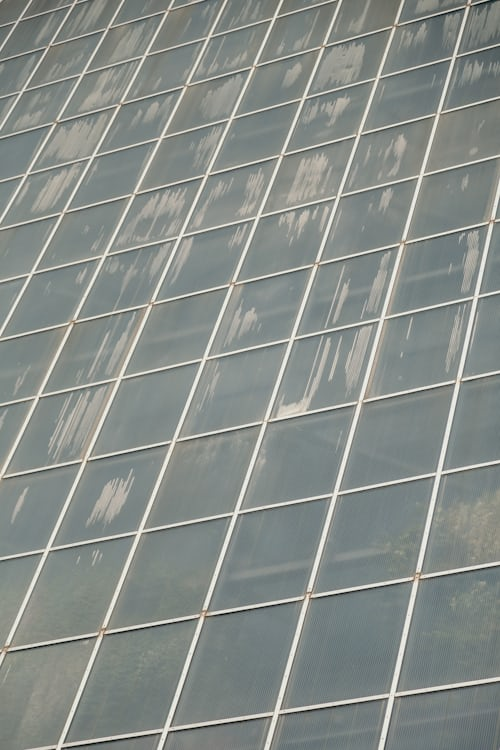glass panel: (286, 585, 409, 705), (69, 622, 193, 740), (175, 604, 297, 723), (315, 480, 431, 590), (210, 501, 326, 610), (111, 519, 226, 626), (13, 539, 130, 644), (400, 568, 499, 688), (343, 388, 450, 487), (148, 428, 256, 526), (244, 409, 351, 506), (56, 448, 164, 543), (0, 640, 91, 749), (182, 345, 284, 436), (273, 326, 374, 417), (368, 305, 469, 395), (94, 366, 195, 452), (9, 386, 108, 470), (390, 228, 484, 312), (127, 291, 224, 372), (425, 465, 499, 570), (300, 251, 394, 333), (212, 271, 307, 352), (386, 684, 499, 749), (45, 312, 139, 390), (409, 160, 499, 237), (325, 181, 414, 258), (158, 223, 248, 298), (446, 342, 500, 467), (239, 203, 330, 277), (0, 467, 75, 555), (82, 242, 171, 315), (6, 262, 94, 334), (346, 118, 432, 189), (266, 139, 352, 210), (189, 161, 274, 230), (115, 180, 198, 248), (40, 200, 124, 267), (271, 702, 384, 749), (366, 63, 447, 128), (289, 84, 369, 148), (141, 125, 222, 188), (215, 105, 295, 168), (427, 100, 499, 169), (72, 145, 151, 206), (5, 162, 83, 223), (384, 11, 461, 72), (239, 52, 316, 112), (311, 32, 387, 92), (169, 73, 246, 131), (0, 329, 61, 401), (36, 110, 110, 168), (102, 93, 177, 149), (262, 3, 334, 60), (194, 23, 266, 79), (127, 43, 200, 98), (65, 62, 137, 115), (30, 33, 100, 84), (91, 16, 160, 67), (0, 556, 39, 644), (152, 0, 218, 50), (0, 220, 54, 277), (446, 48, 499, 106), (165, 720, 268, 749), (329, 0, 399, 41), (1, 11, 64, 56), (465, 295, 499, 374), (57, 0, 119, 40), (0, 128, 47, 178), (460, 0, 499, 51), (216, 0, 278, 31), (0, 402, 30, 464), (0, 51, 41, 95), (400, 0, 463, 21), (71, 734, 159, 749), (482, 224, 499, 291), (116, 0, 167, 22), (0, 279, 24, 324), (0, 177, 20, 213), (25, 0, 69, 15), (0, 94, 16, 122)
